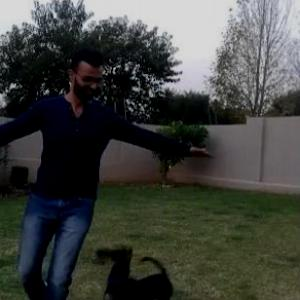land: (0, 64, 172, 292)
